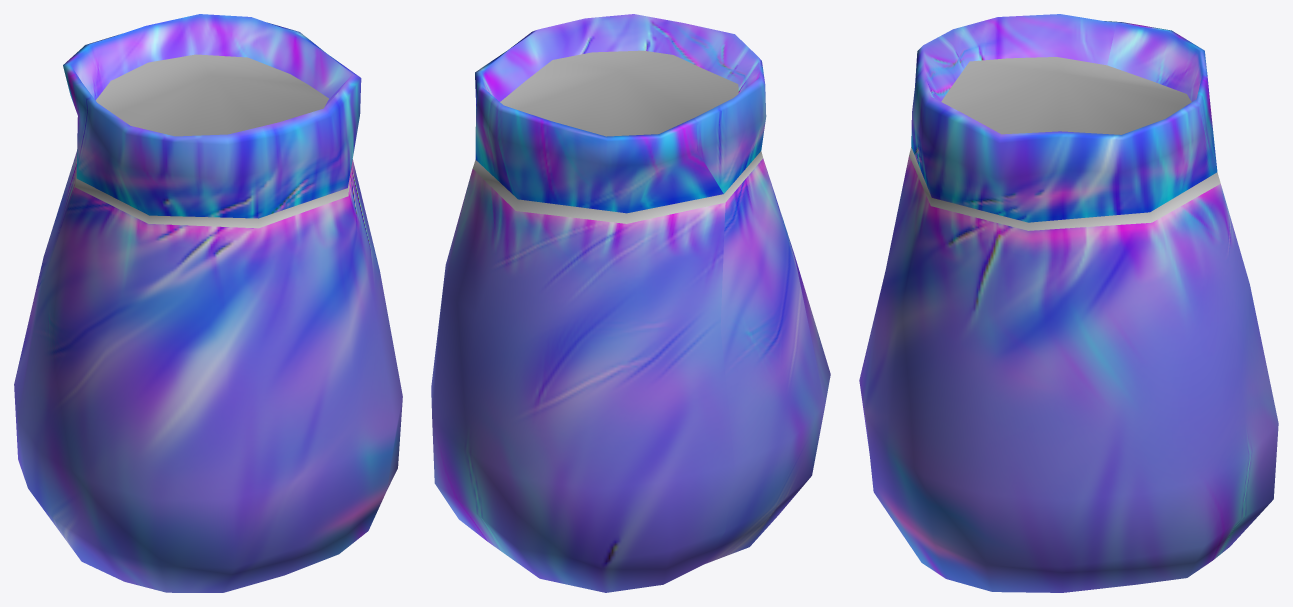
Rendered from sack2.fbx.
The picture shows the model from 3 angles, left to right: view 1: azimuth 30°, elevation 25°; view 2: azimuth 150°, elevation 25°; view 3: azimuth 270°, elevation 25°; orthographic projection. The views are drawn at different scales.
Visible parts, largest first — view 1: sack2b:polySurface1; view 2: sack2b:polySurface1; view 3: sack2b:polySurface1.
Part boxes in pixels (box(x1,y1,x2,y2)): sack2b:polySurface1: box(14, 14, 402, 592); sack2b:polySurface1: box(431, 14, 830, 592); sack2b:polySurface1: box(859, 14, 1278, 592).
Bounding box in the file's own units: 0.8247 × 1.11 × 0.8548.
